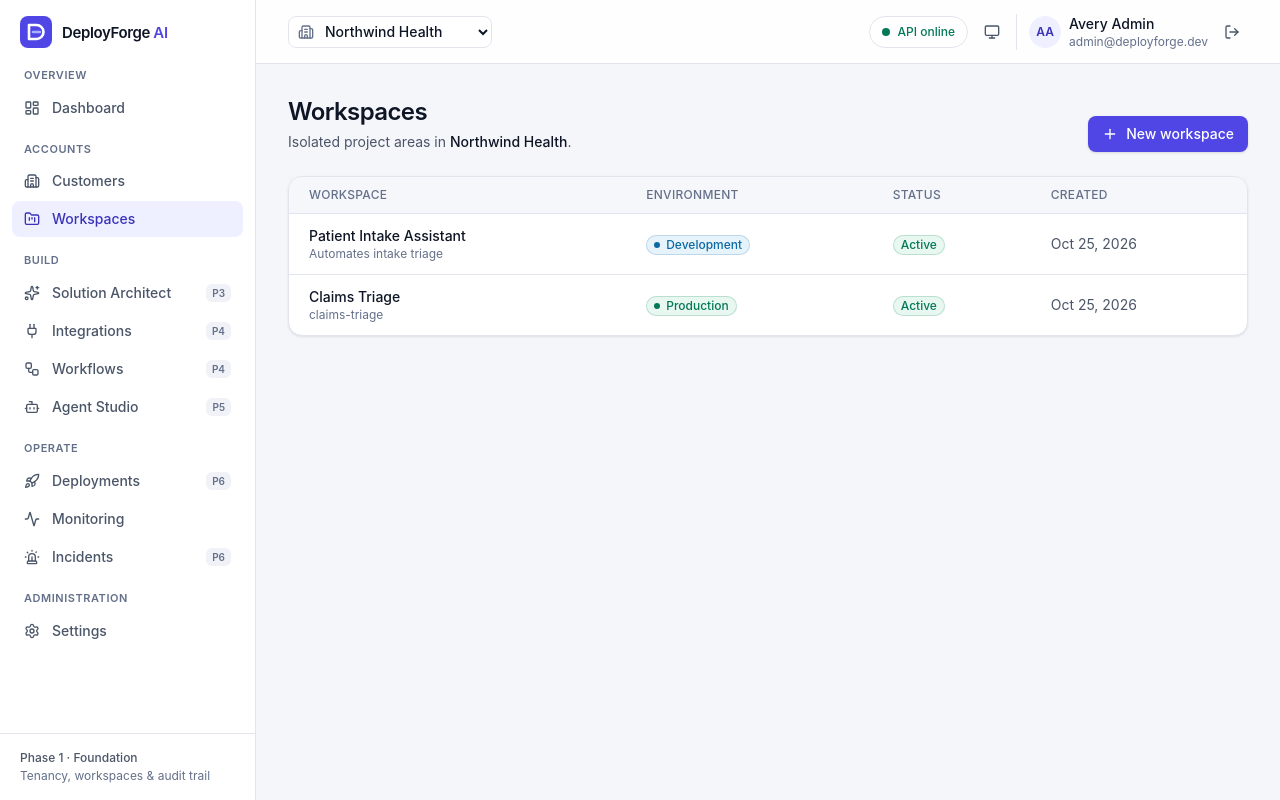
Test: WorkspacesPage › creates a workspace and opens it
The image size is (1280, 800).
Click the button "New workspace" at (1168, 134), box x1=1088 y1=116 x2=1248 y2=152
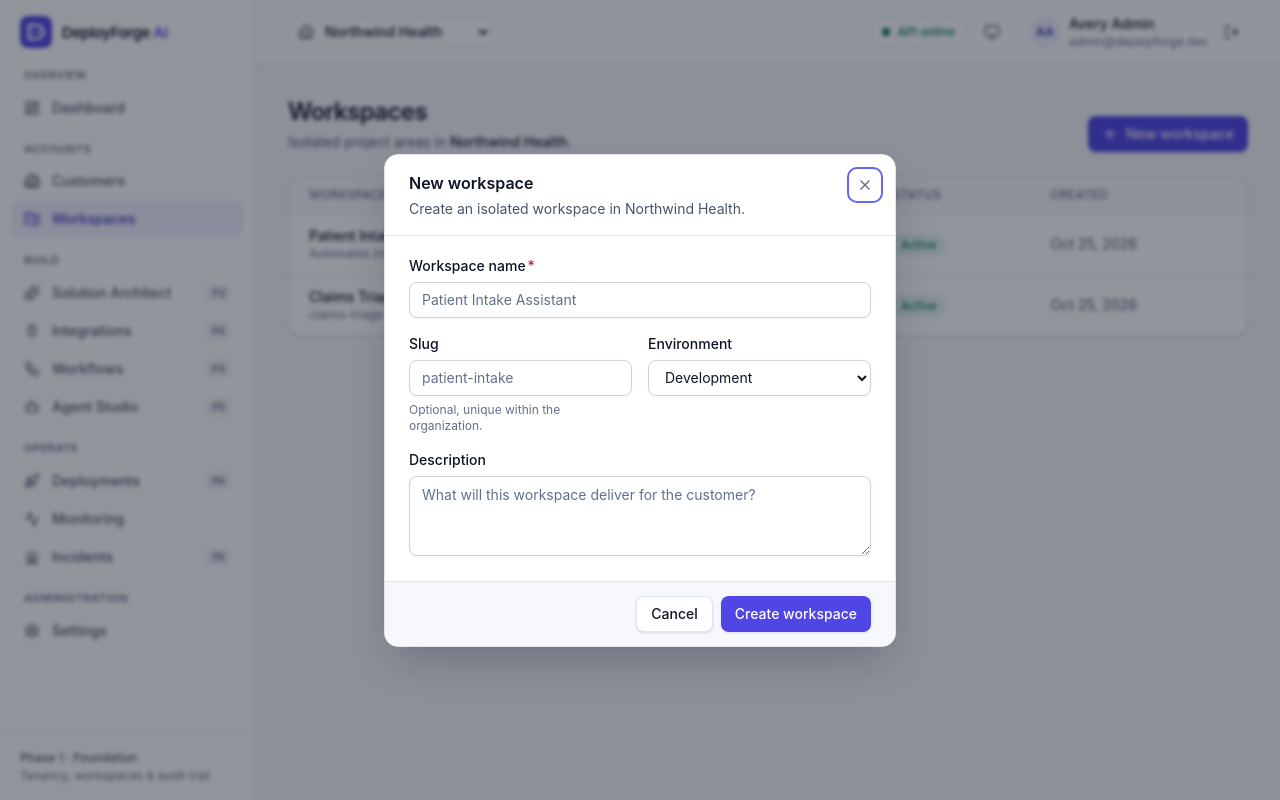
Type "Fraud Review" into the field labelled "Workspace name*" at (640, 300), box x1=409 y1=282 x2=871 y2=318
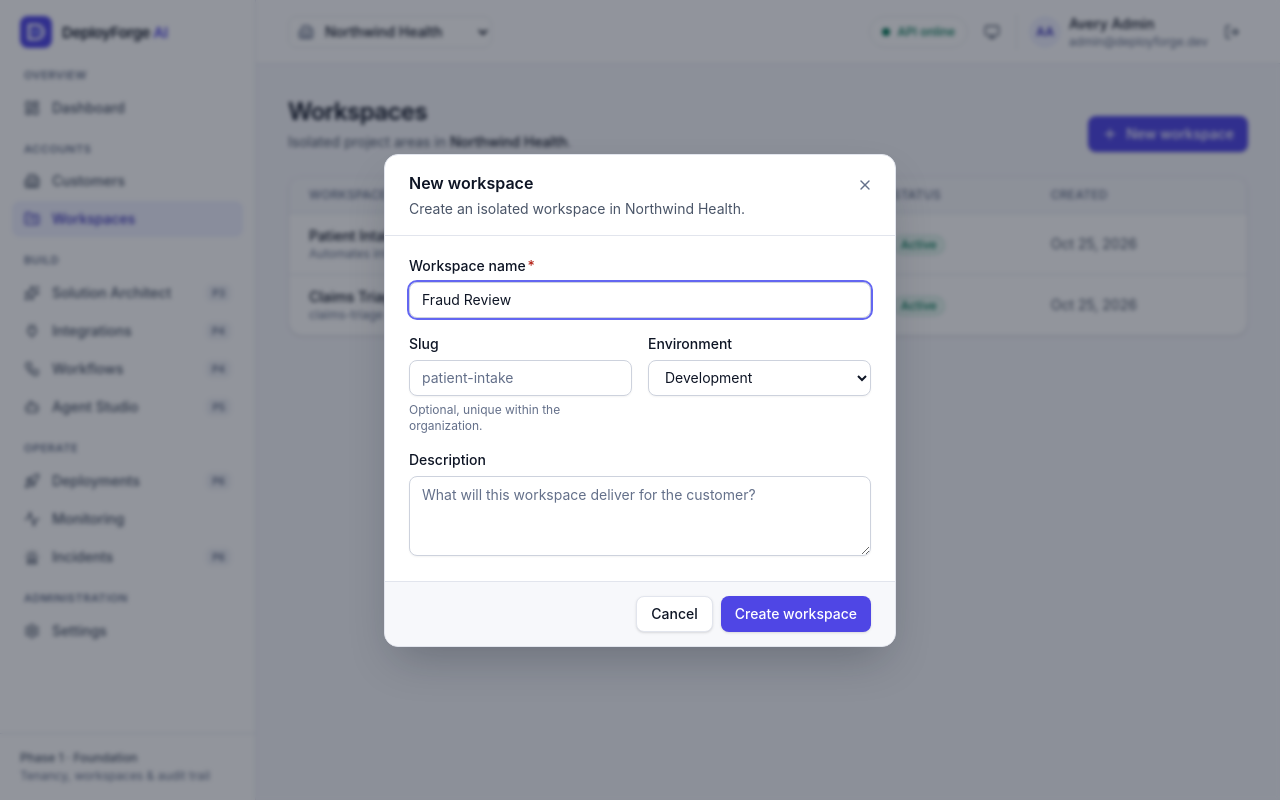
Select "Staging" in the dropdown labelled "Environment" at (760, 378), box x1=648 y1=360 x2=871 y2=396
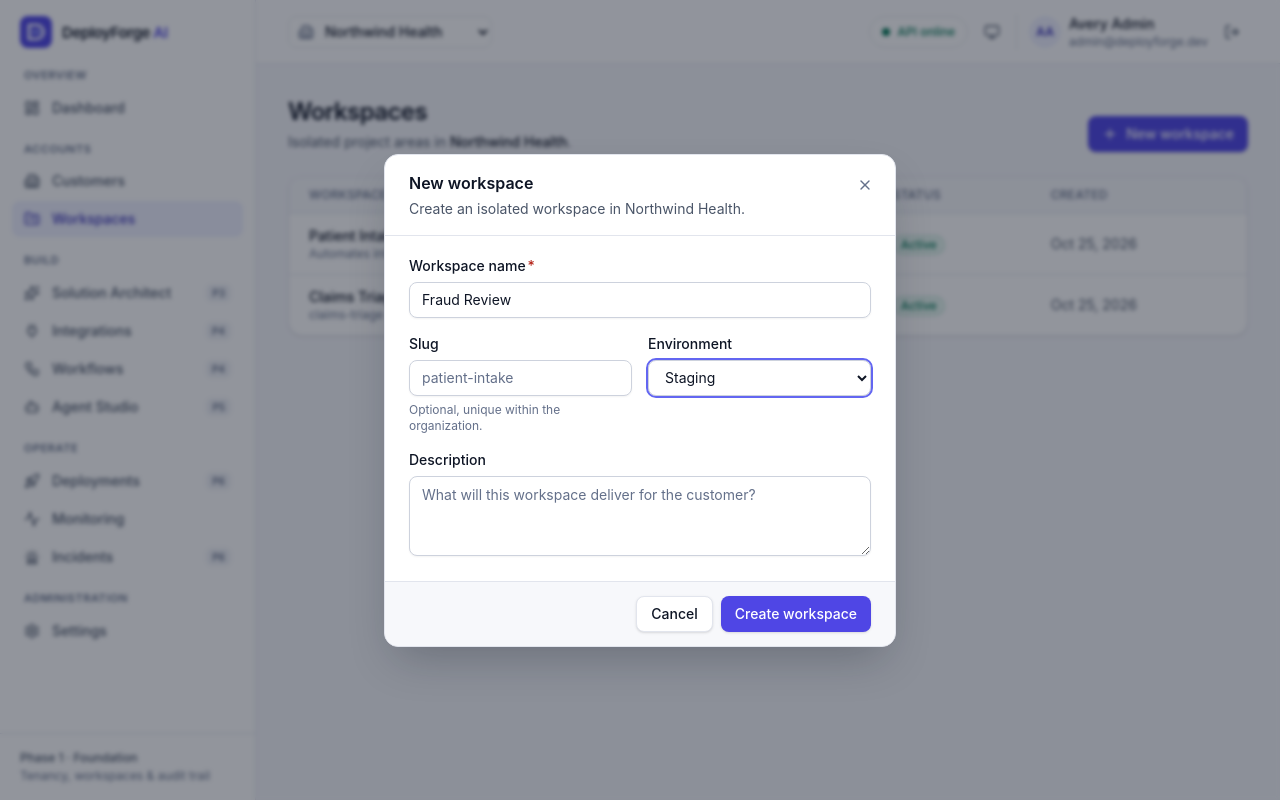
Click the button "Create workspace" at (796, 614), box x1=721 y1=596 x2=871 y2=632
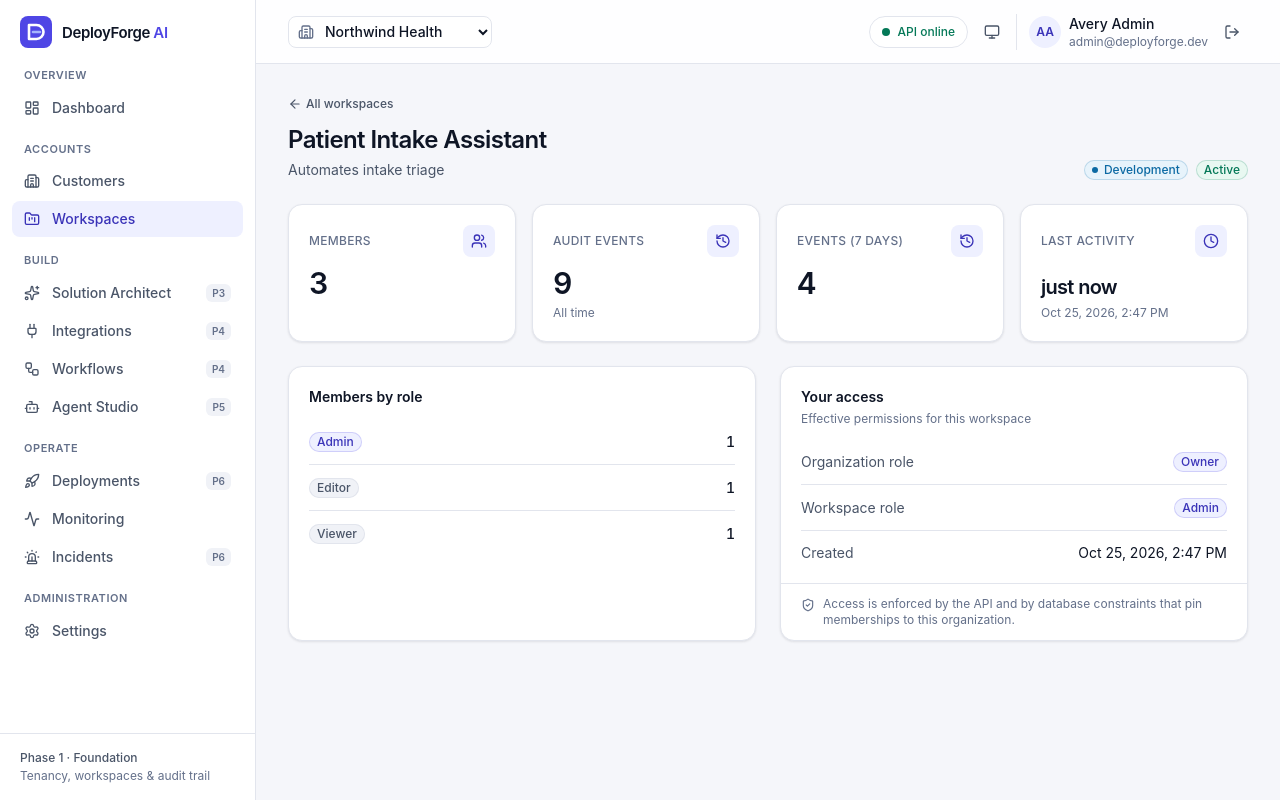
Now the heading "Patient Intake Assistant" is shown, box x1=288 y1=124 x2=546 y2=156
